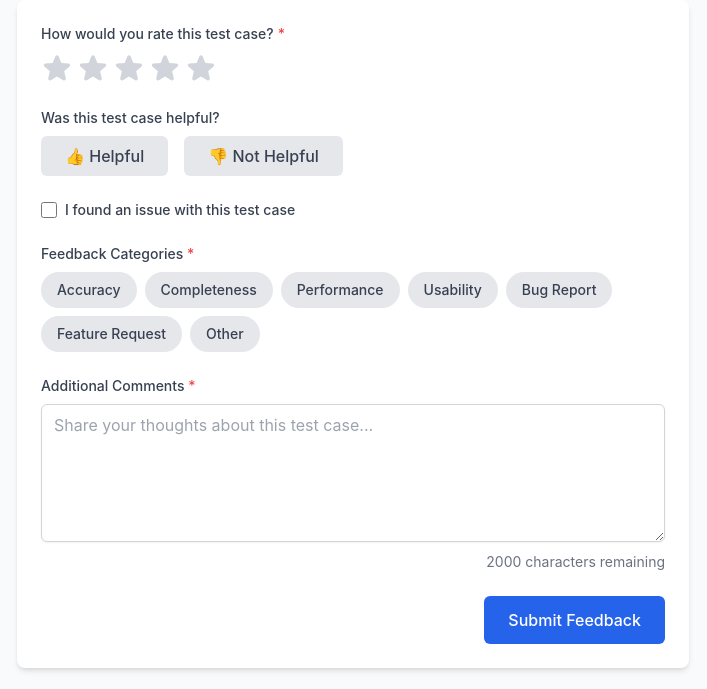
Test: TestCaseFeedback Component › Form Interaction › should update rating when star is clicked
Click the button named "star" at (129,68), box [113,52,145,84]
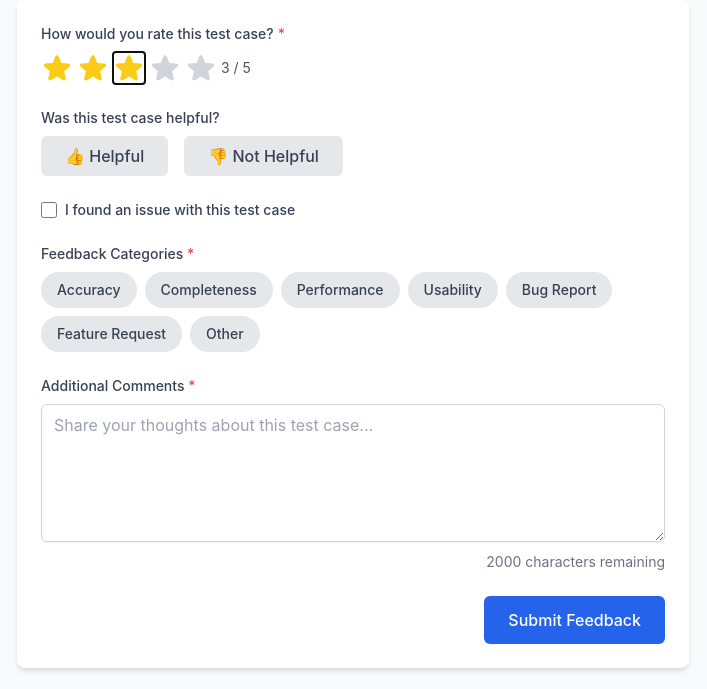
Check: the text "3 / 5" is shown, box [221,58,251,78]
